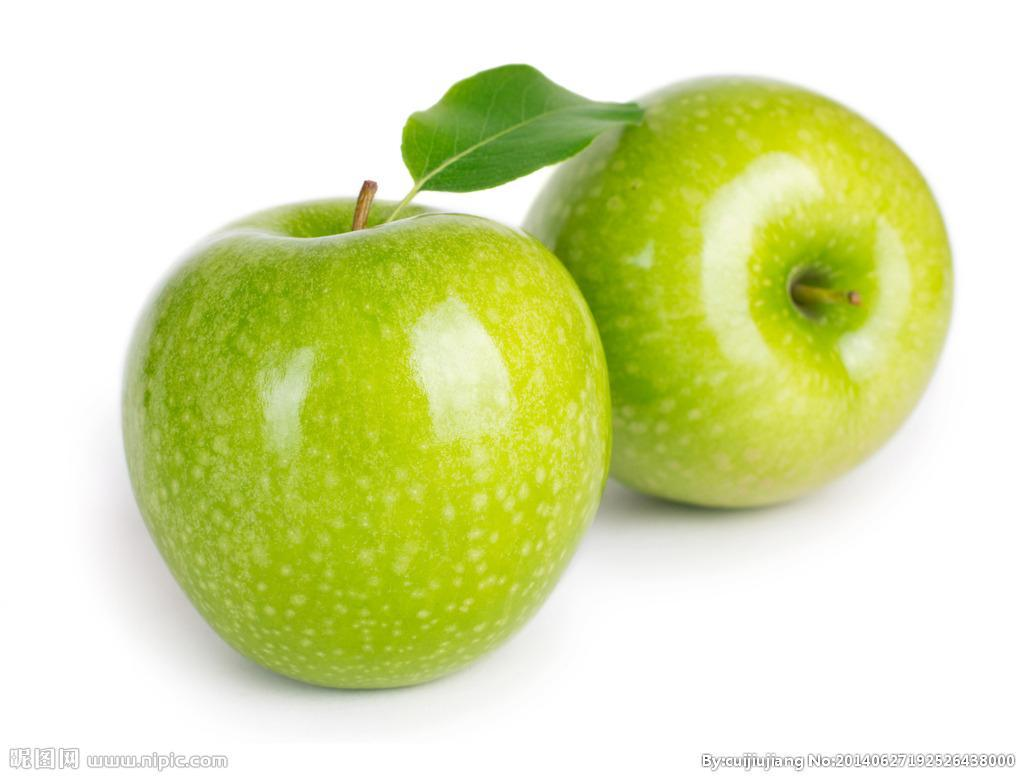apple: (123, 185, 625, 684), (539, 74, 965, 505)
